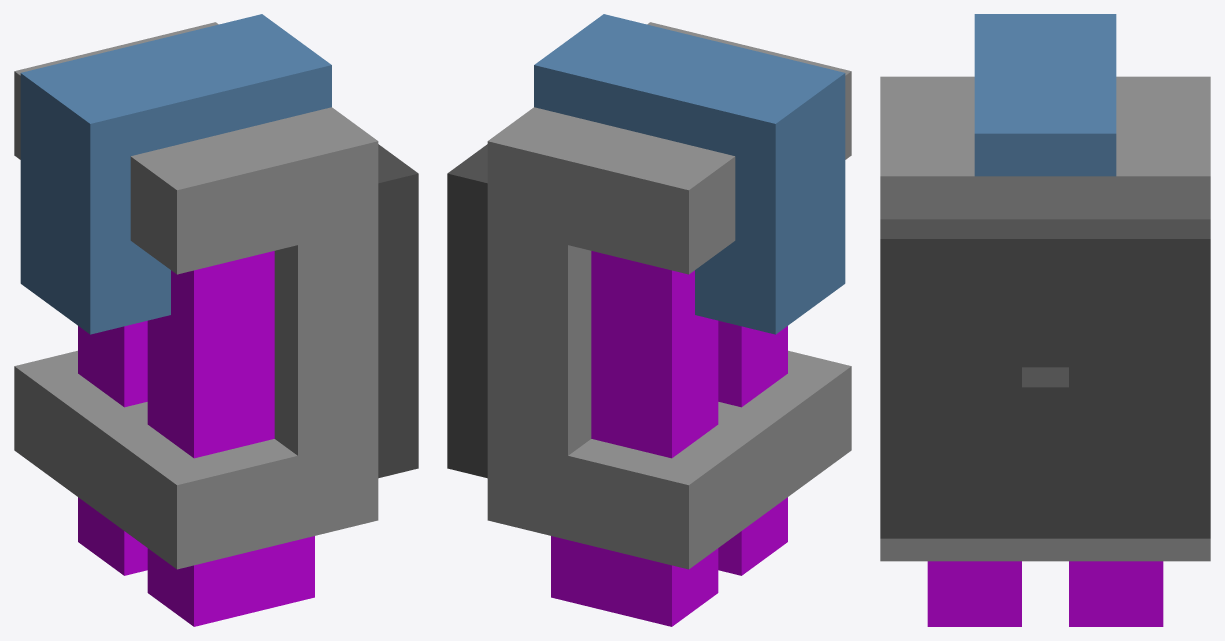
Rendered from WeaponBattery#2.obj.
The picture shows the model from 3 angles, left to right: view 1: azimuth 30°, elevation 25°; view 2: azimuth 150°, elevation 25°; view 3: azimuth 270°, elevation 25°; orthographic projection.
Size of the model in its own units: 0.8 by 1.2 by 0.7.
1 material, 1 textured.
